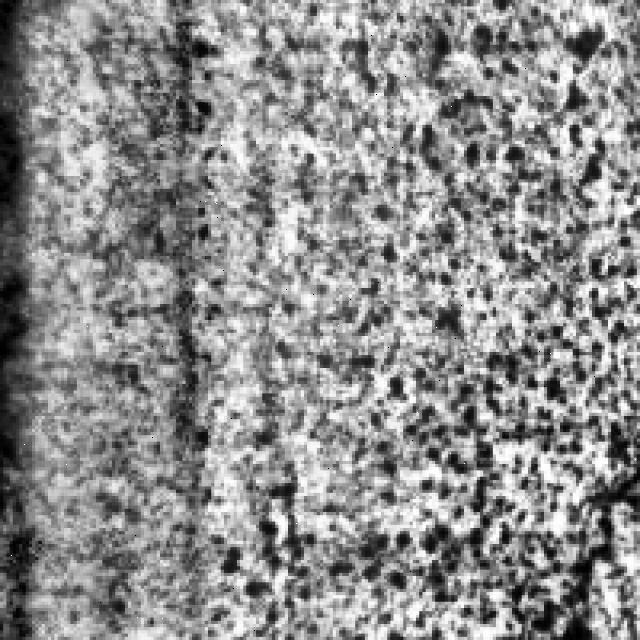Rolled_in_Scale: (240, 19, 640, 634)
